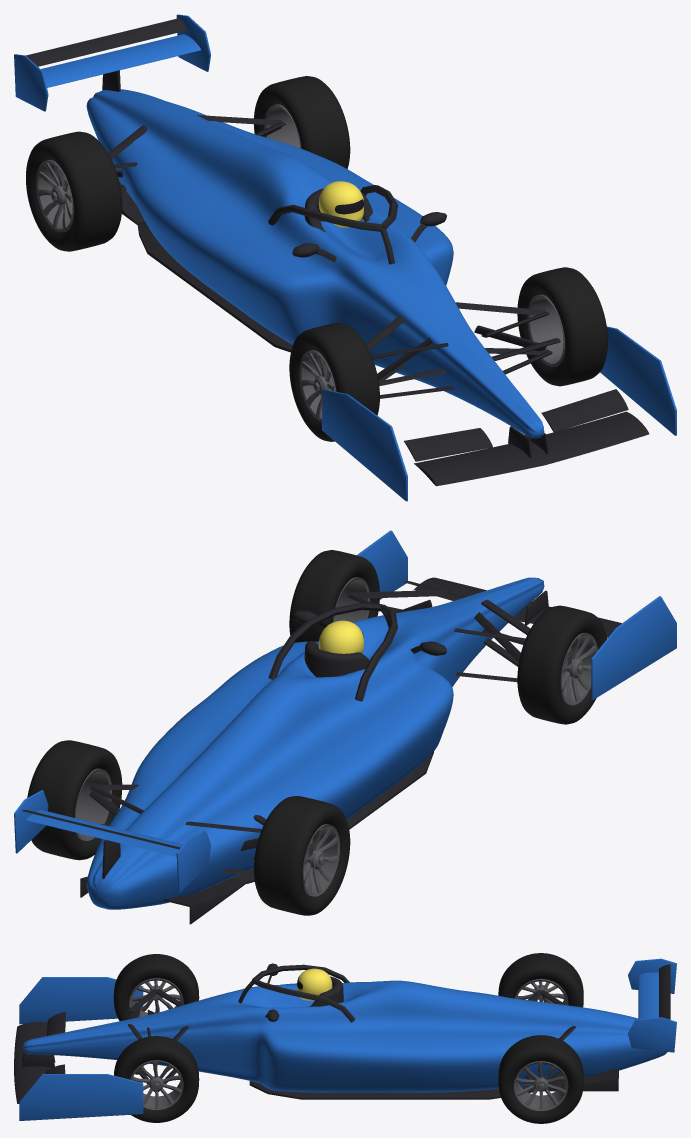
The picture shows the model from 3 angles, top to bottom: view 1: azimuth 30°, elevation 25°; view 2: azimuth 150°, elevation 25°; view 3: azimuth 270°, elevation 25°; orthographic projection. The views are drawn at different scales.
Parts seen in each view (by area): view 1: body, carbon, tyre_RR, tyre_FL, tyre_FR, tyre_RL, rim_RR, rim_FL, rim_FR, helmet, rim_RL; view 2: body, carbon, tyre_RR, tyre_FR, tyre_RL, tyre_FL, rim_RR, rim_FR, rim_RL, helmet, rim_FL; view 3: body, carbon, tyre_RL, tyre_FL, tyre_FR, tyre_RR, rim_RL, rim_FL, rim_FR, helmet, rim_RR.
Part boxes in pixels (x1=…): body: x1=14, y1=14, x2=676, y2=501; carbon: x1=26, y1=18, x2=649, y2=486; tyre_RR: x1=26, y1=131, x2=122, y2=251; tyre_FL: x1=517, y1=267, x2=607, y2=386; tyre_FR: x1=289, y1=323, x2=379, y2=441; tyre_RL: x1=254, y1=76, x2=350, y2=168; rim_RR: x1=36, y1=160, x2=73, y2=232; rim_FL: x1=527, y1=294, x2=564, y2=366; rim_FR: x1=299, y1=350, x2=336, y2=421; helmet: x1=318, y1=181, x2=363, y2=227; rim_RL: x1=264, y1=104, x2=301, y2=148; body: x1=14, y1=530, x2=676, y2=909; carbon: x1=21, y1=577, x2=621, y2=924; tyre_RR: x1=254, y1=796, x2=350, y2=915; tyre_FR: x1=517, y1=605, x2=606, y2=724; tyre_RL: x1=27, y1=740, x2=122, y2=860; tyre_FL: x1=289, y1=550, x2=379, y2=642; rim_RR: x1=302, y1=824, x2=339, y2=896; rim_FR: x1=560, y1=632, x2=597, y2=705; rim_RL: x1=74, y1=768, x2=111, y2=840; helmet: x1=318, y1=620, x2=363, y2=653; rim_FL: x1=332, y1=577, x2=369, y2=622; body: x1=19, y1=958, x2=676, y2=1120; carbon: x1=14, y1=963, x2=670, y2=1103; tyre_RL: x1=498, y1=1035, x2=583, y2=1123; tyre_FL: x1=114, y1=1036, x2=199, y2=1122; tyre_FR: x1=113, y1=954, x2=199, y2=1020; tyre_RR: x1=498, y1=953, x2=583, y2=1007; rim_RL: x1=513, y1=1061, x2=568, y2=1110; rim_FL: x1=130, y1=1060, x2=183, y2=1109; rim_FR: x1=129, y1=978, x2=183, y2=1016; helmet: x1=296, y1=968, x2=332, y2=1000; rim_RR: x1=514, y1=979, x2=568, y2=1005.
Bounding box in the file's own units: 1.8 × 0.9097 × 5.12.
